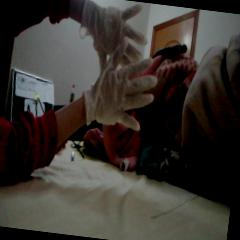gloved: (81, 29, 162, 130), (73, 0, 154, 80)
